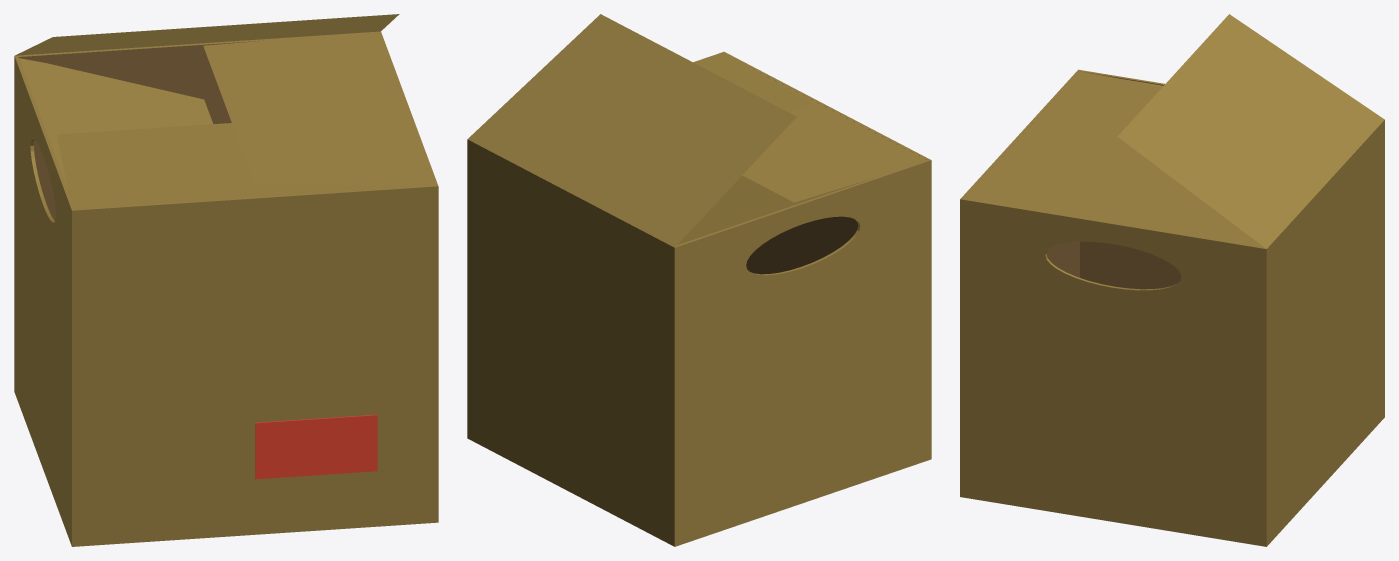
The model's file is Cardboard.fbx.
The picture shows the model from 3 angles, left to right: view 1: azimuth 30°, elevation 25°; view 2: azimuth 150°, elevation 25°; view 3: azimuth 270°, elevation 25°; orthographic projection. The views are drawn at different scales.
Parts seen in each view (by area): view 1: Cube; view 2: Cube; view 3: Cube.
Boxes of the visible parts, x1,y1,x2,y2 form: Cube: [14, 14, 438, 546]; Cube: [467, 14, 931, 546]; Cube: [960, 14, 1384, 546].
Size of the model in its own units: 181 by 180 by 181.
